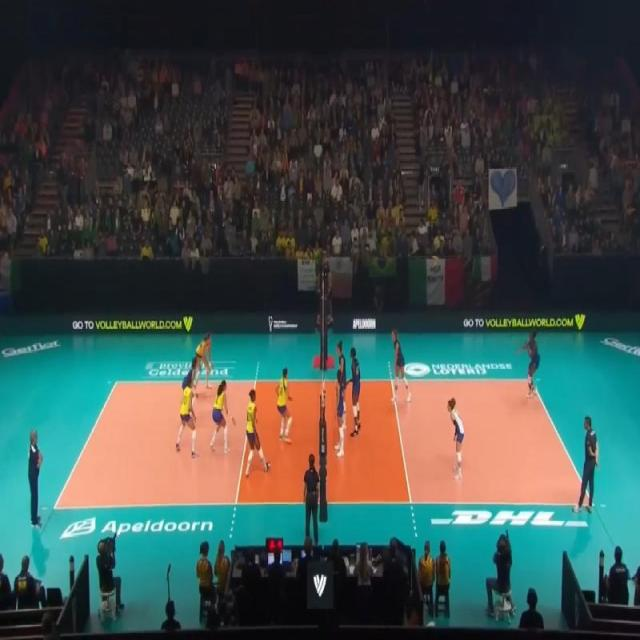volleyball: (430, 255, 440, 272)
